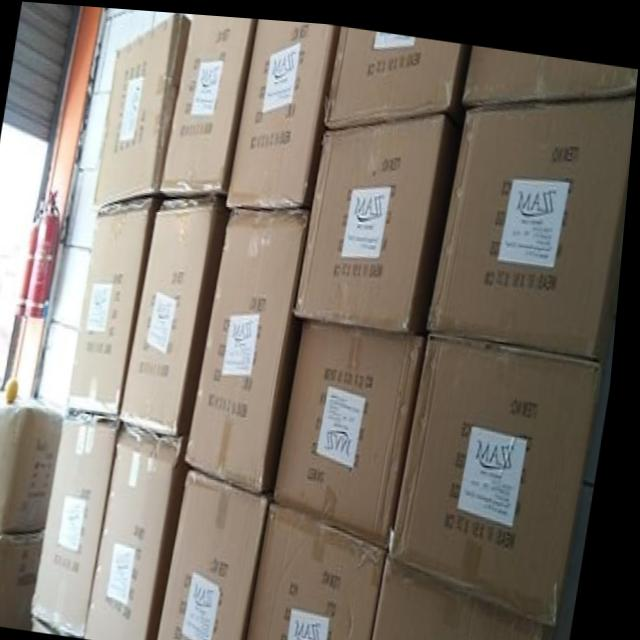box: (399, 320, 607, 615), (432, 89, 636, 346), (192, 203, 314, 488), (282, 312, 428, 543), (298, 108, 448, 325), (125, 190, 235, 433), (94, 416, 198, 640), (229, 15, 341, 203), (256, 494, 396, 640), (73, 192, 162, 418), (167, 462, 280, 640), (93, 10, 191, 209), (42, 413, 127, 634), (383, 546, 567, 640), (162, 11, 257, 192), (323, 23, 461, 126), (462, 37, 638, 99), (0, 402, 70, 533), (0, 529, 53, 627)
